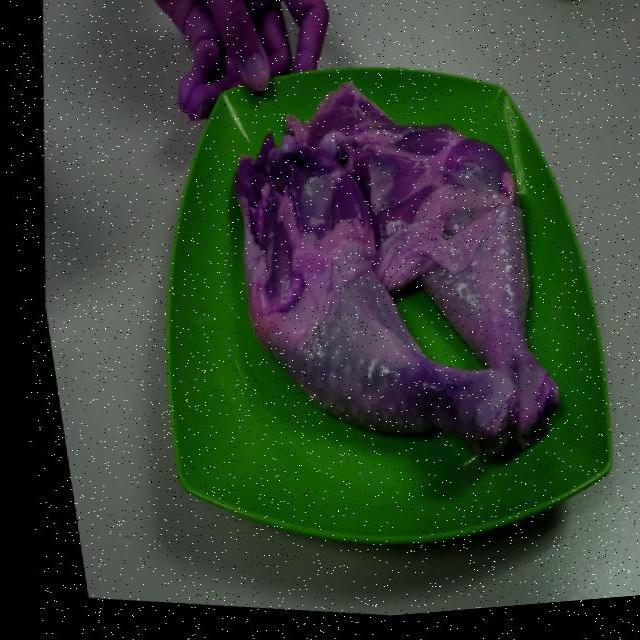quater: (214, 124, 504, 444), (320, 83, 560, 428)
